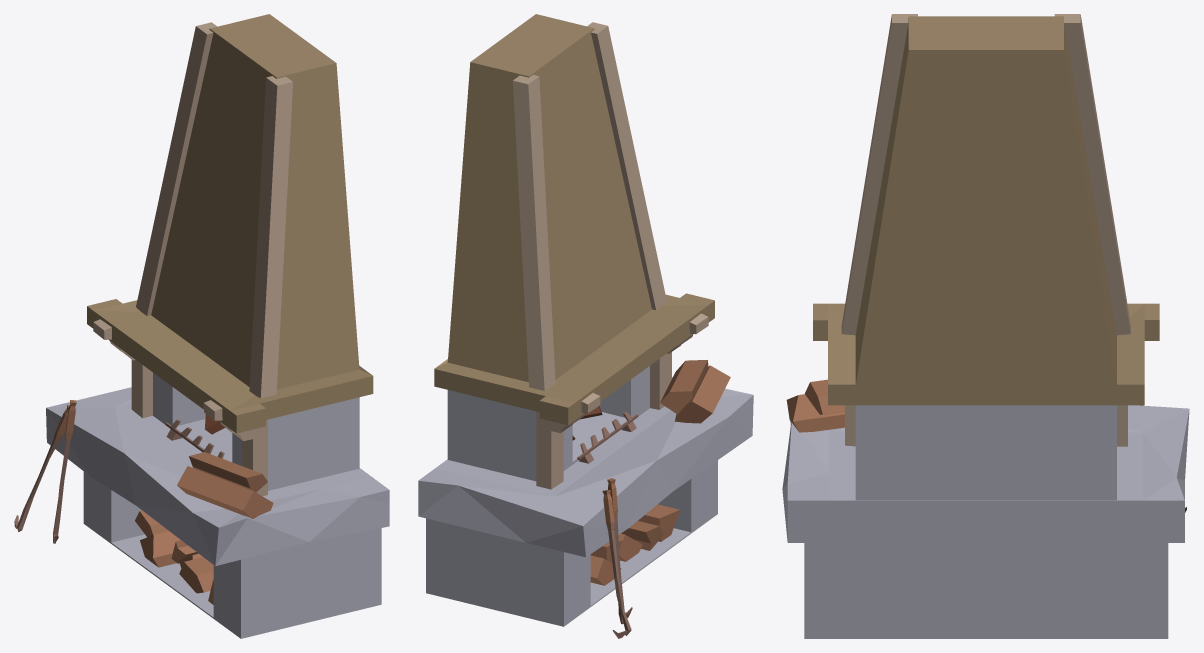
The model's file is CHEMINE.fbx.
3 renders of one model, left to right at view 1: azimuth 30°, elevation 25°; view 2: azimuth 150°, elevation 25°; view 3: azimuth 270°, elevation 25°, orthographic. The views are drawn at different scales.
Visible parts, largest first — view 1: Cube.005; view 2: Cube.005; view 3: Cube.005.
Part boxes in pixels (x1,y1,x2,y2): Cube.005: [14, 14, 389, 638]; Cube.005: [418, 14, 753, 638]; Cube.005: [782, 14, 1189, 638].
Bounding box in the file's own units: 807 × 1868 × 1171.
